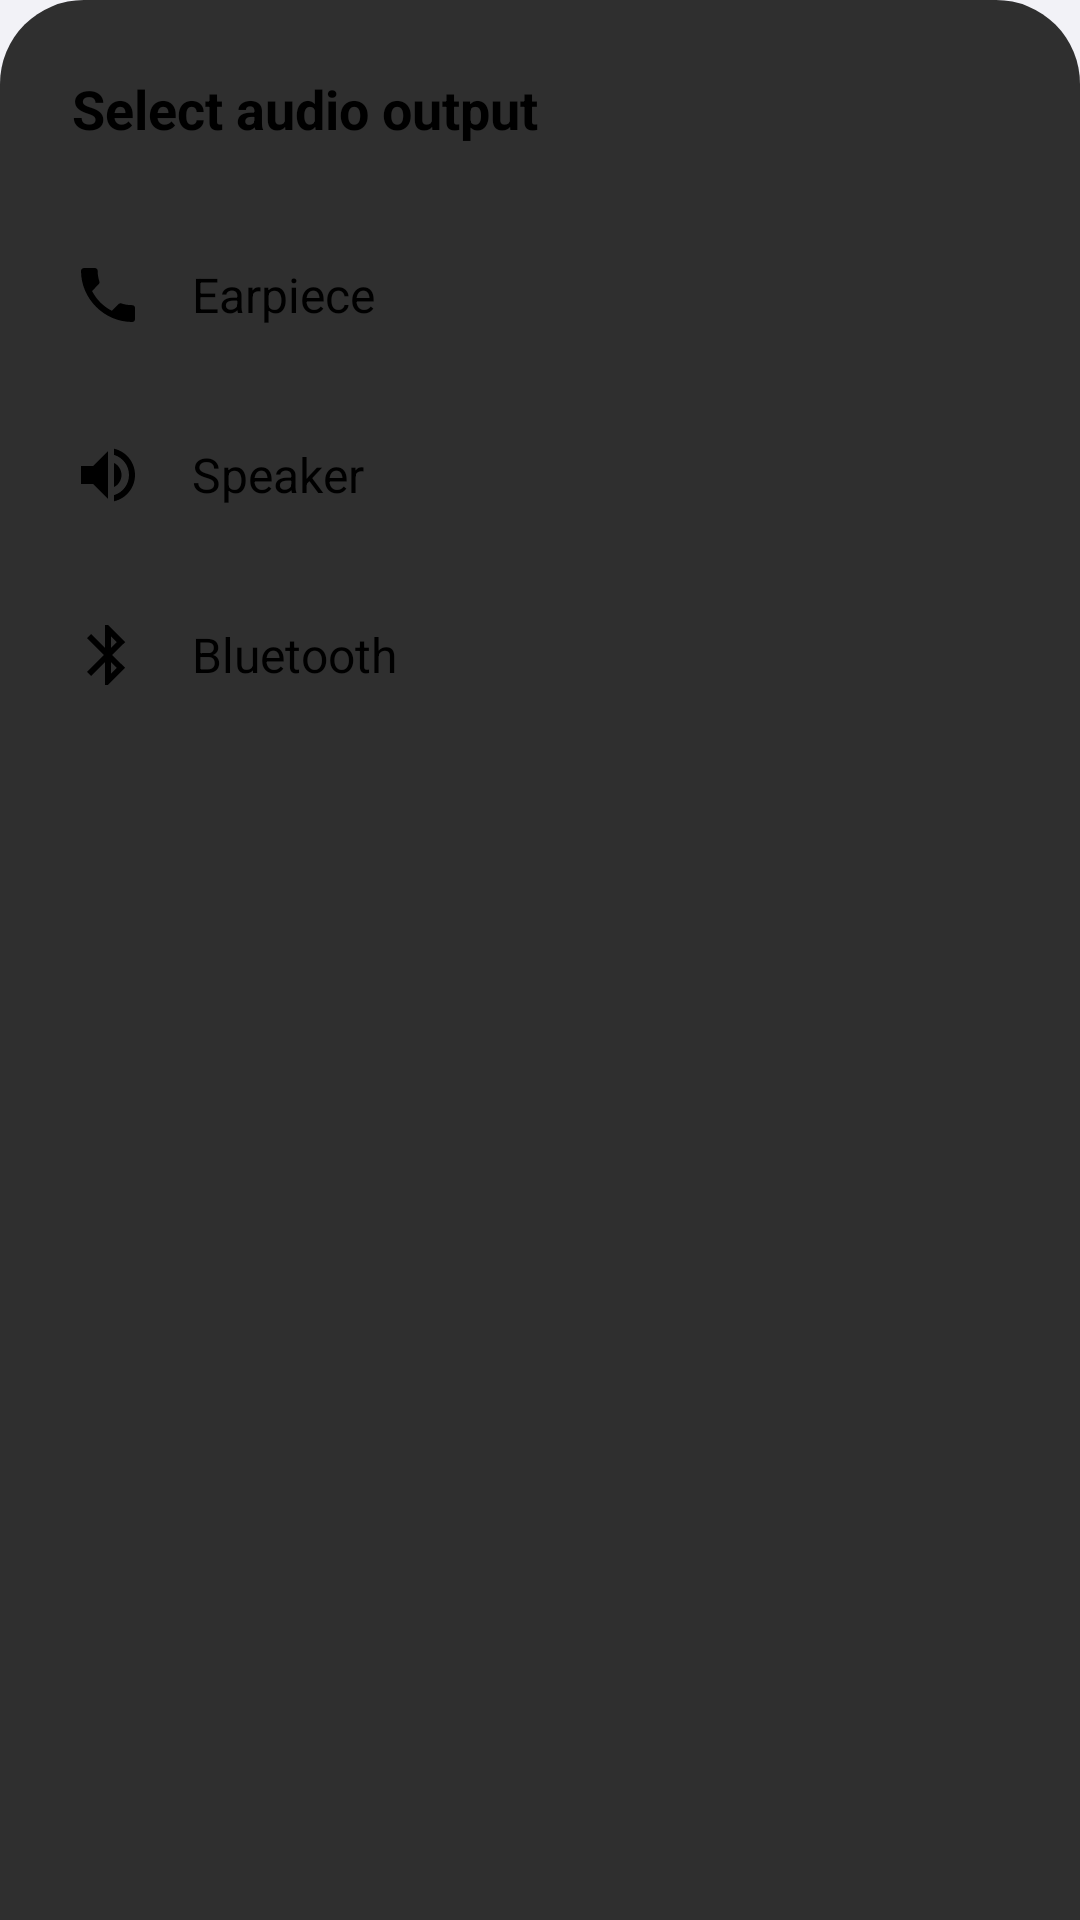

Icon bounding boxes for this 1080×1920 phone screenshot, format (x1, y1, x2, y2):
phone: (81, 268, 135, 322)
